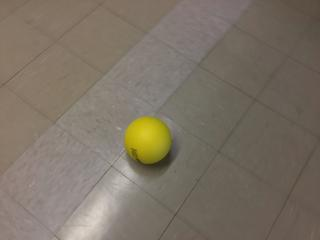power_cell: (123, 115, 175, 171)
